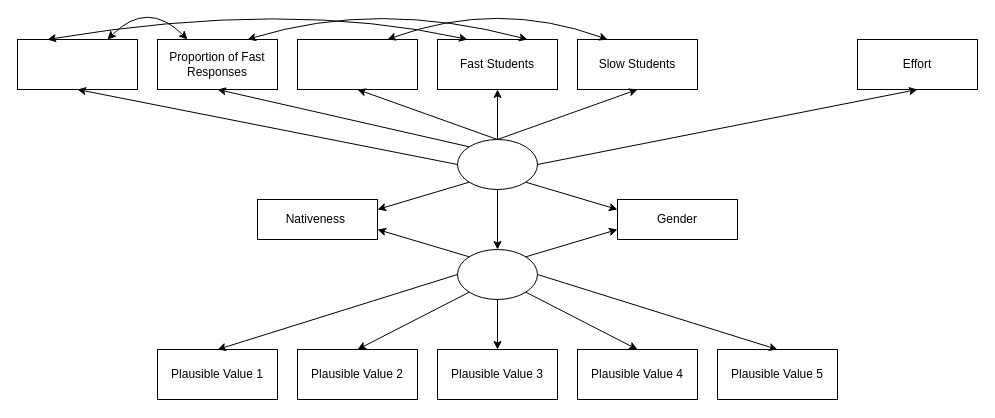
This 995x418 diagram has some shape labels left out. Here are the shapes that lost their labels. From the top down, the box of each, then its label:
(16, 38, 138, 90): Mean Response Times
(296, 38, 418, 90): Proportion of Slow Responses
(456, 138, 538, 190): Motivation
(456, 248, 538, 300): Ability
